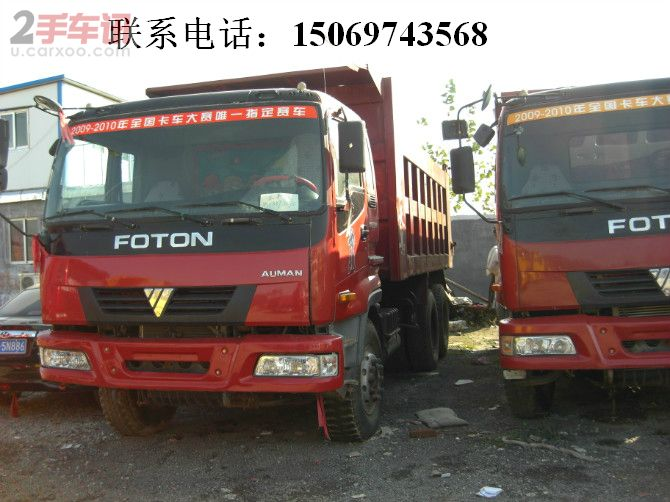truck: (28, 73, 436, 428), (470, 83, 670, 407)
